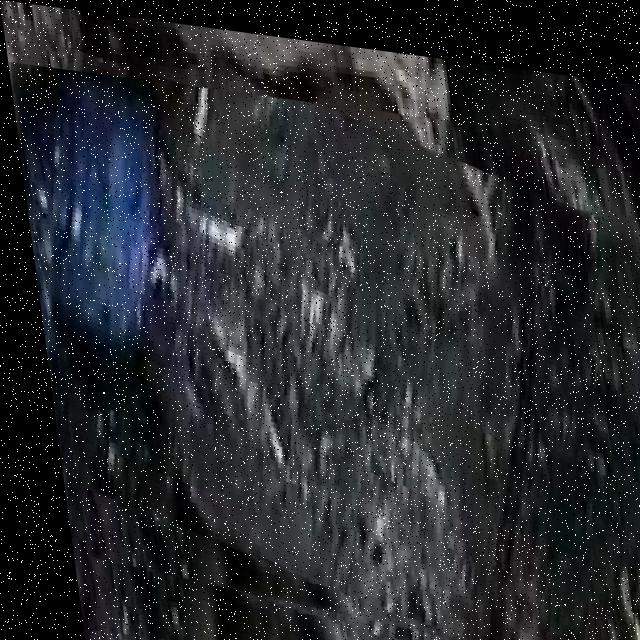litter: (7, 62, 625, 640)
